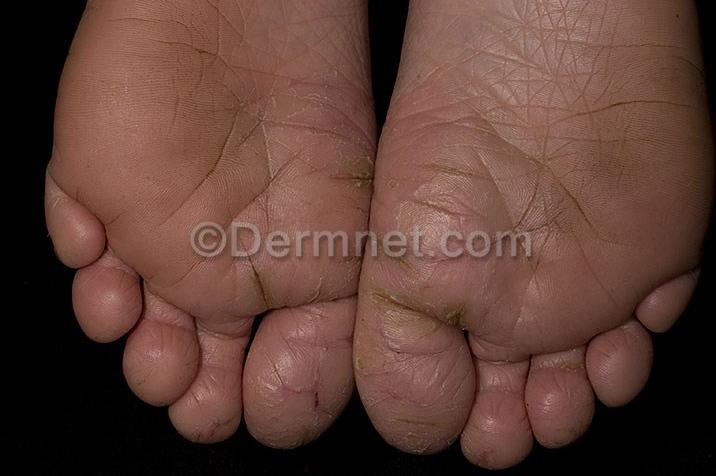liquenificacion 1: (222, 0, 641, 156)
xerosis 2: (167, 69, 606, 470)
